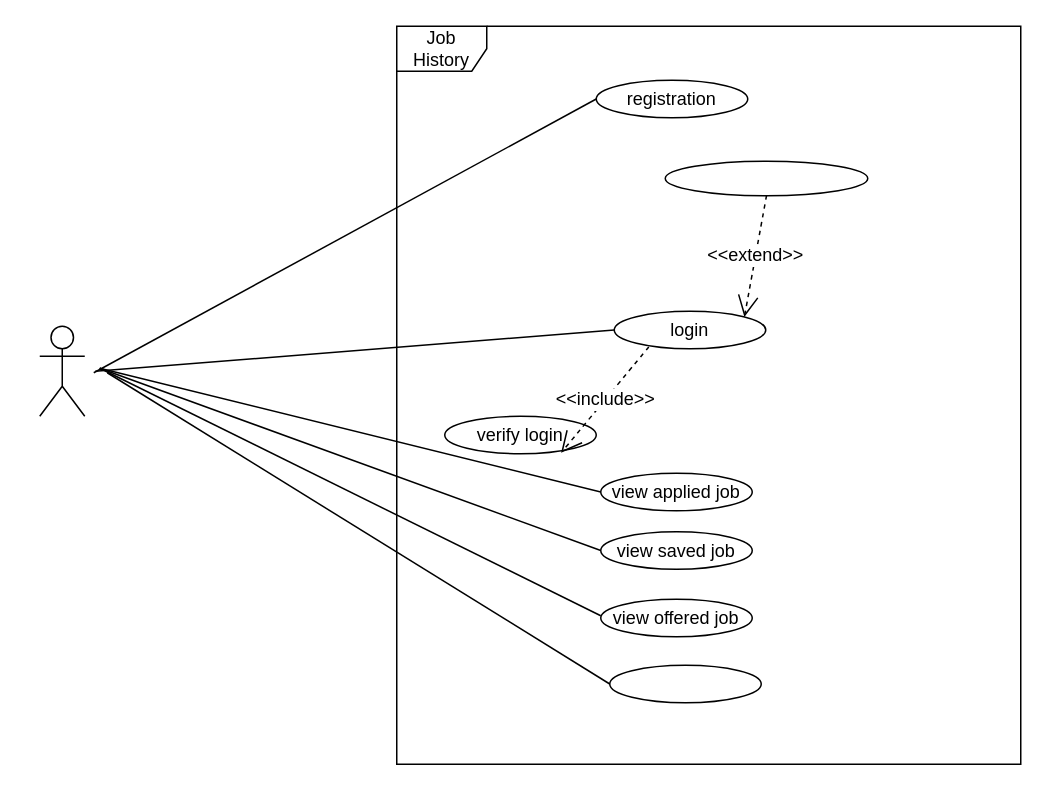
Some shapes in this 1047 by 791 pixel diagram are drawn without their labels. The centre of each missing label's shape, as x and y in pixels:
"Applicant" goes at (x=61, y=370).
"Display error message" goes at (x=766, y=178).
"logout" goes at (x=684, y=683).
